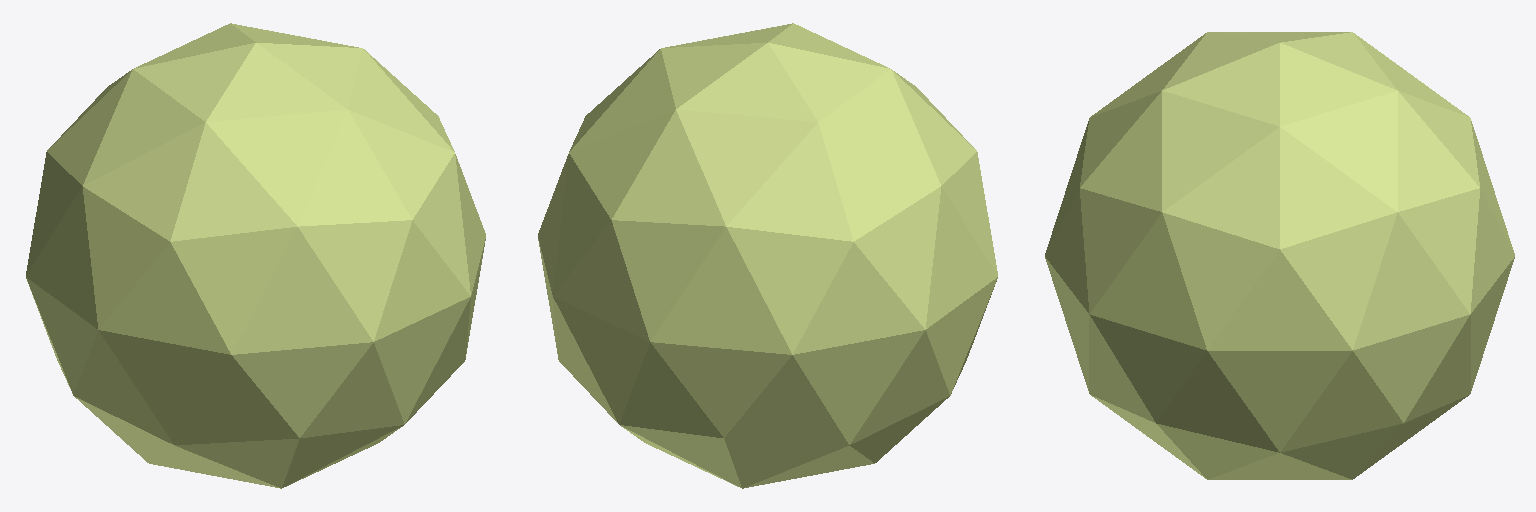
The model's file is sphereD_0p52.obj.
3 renders of one model, left to right at view 1: azimuth 30°, elevation 25°; view 2: azimuth 150°, elevation 25°; view 3: azimuth 270°, elevation 25°, orthographic.
Visible parts, largest first — view 1: GeoSphere001; view 2: GeoSphere001; view 3: GeoSphere001.
Part boxes in pixels (x1,y1,x2,y2): GeoSphere001: (26,23,485,488); GeoSphere001: (538,23,997,488); GeoSphere001: (1045,32,1514,479).
Size of the model in its own units: 0.4756 by 0.5 by 0.5.